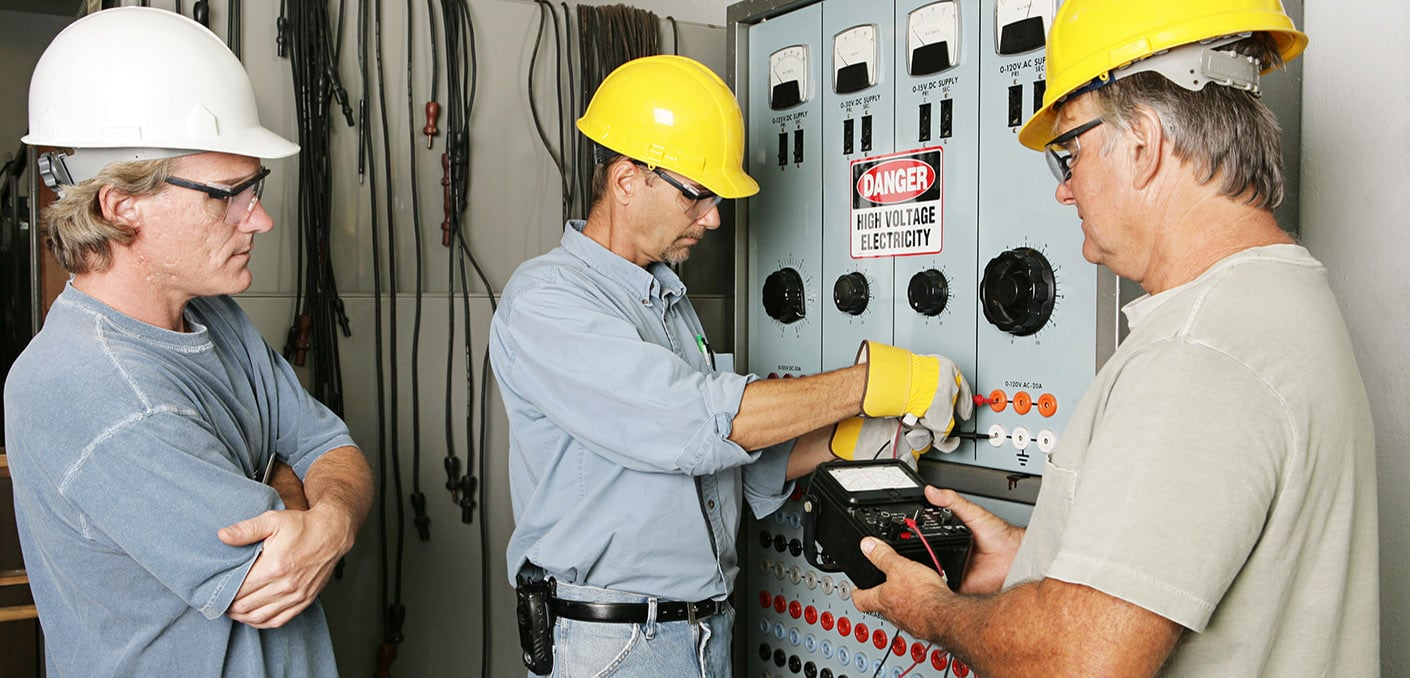Helmet: (21, 4, 305, 170), (1019, 1, 1313, 161), (568, 49, 763, 205)
